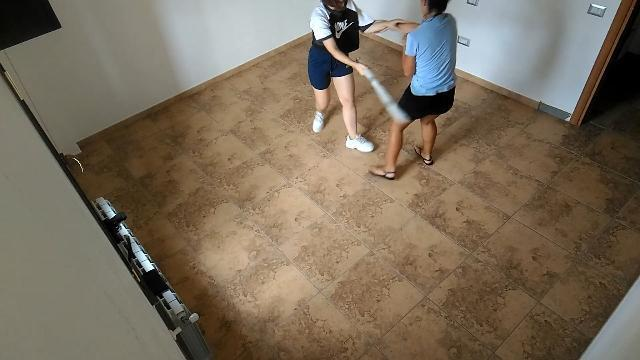violence: (309, 1, 457, 180)
